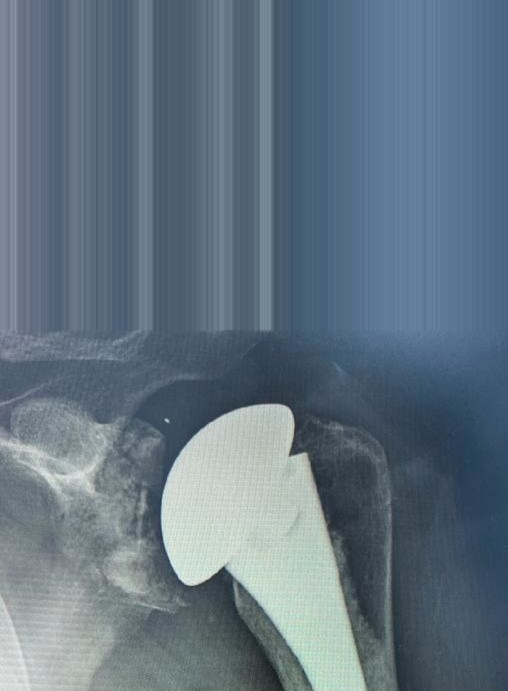Shoulder - Anotomical - Stryker: (151, 396, 339, 591)
